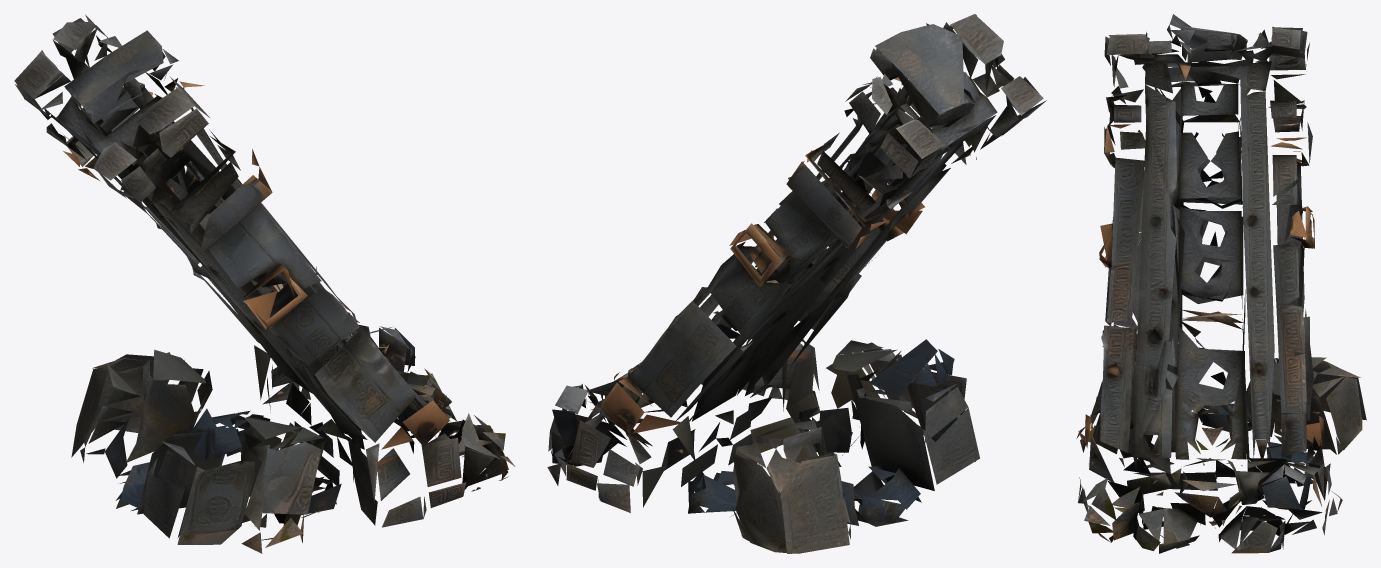
Rendered from ch3_broken_pylon_b_LOD3.glb.
3 renders of one model, left to right at view 1: azimuth 30°, elevation 25°; view 2: azimuth 150°, elevation 25°; view 3: azimuth 270°, elevation 25°, orthographic. The views are drawn at different scales.
Parts seen in each view (by area): view 1: tripo_node_7c5f5e39-295b-4532-9354-16df792670c5; view 2: tripo_node_7c5f5e39-295b-4532-9354-16df792670c5; view 3: tripo_node_7c5f5e39-295b-4532-9354-16df792670c5.
Boxes of the visible parts, x1,y1,x2,y2 form: tripo_node_7c5f5e39-295b-4532-9354-16df792670c5: (14, 14, 515, 553); tripo_node_7c5f5e39-295b-4532-9354-16df792670c5: (547, 14, 1046, 553); tripo_node_7c5f5e39-295b-4532-9354-16df792670c5: (1076, 14, 1366, 553).
Size of the model in its own units: 0.924 by 0.9994 by 0.6615.
Materials: 1 (1 with a texture image).
